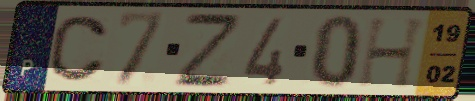0: (306, 13, 366, 91)
4: (239, 15, 287, 88)
7: (115, 9, 170, 90)
C: (46, 13, 111, 84)
H: (354, 16, 432, 91)
Z: (172, 10, 241, 90)
